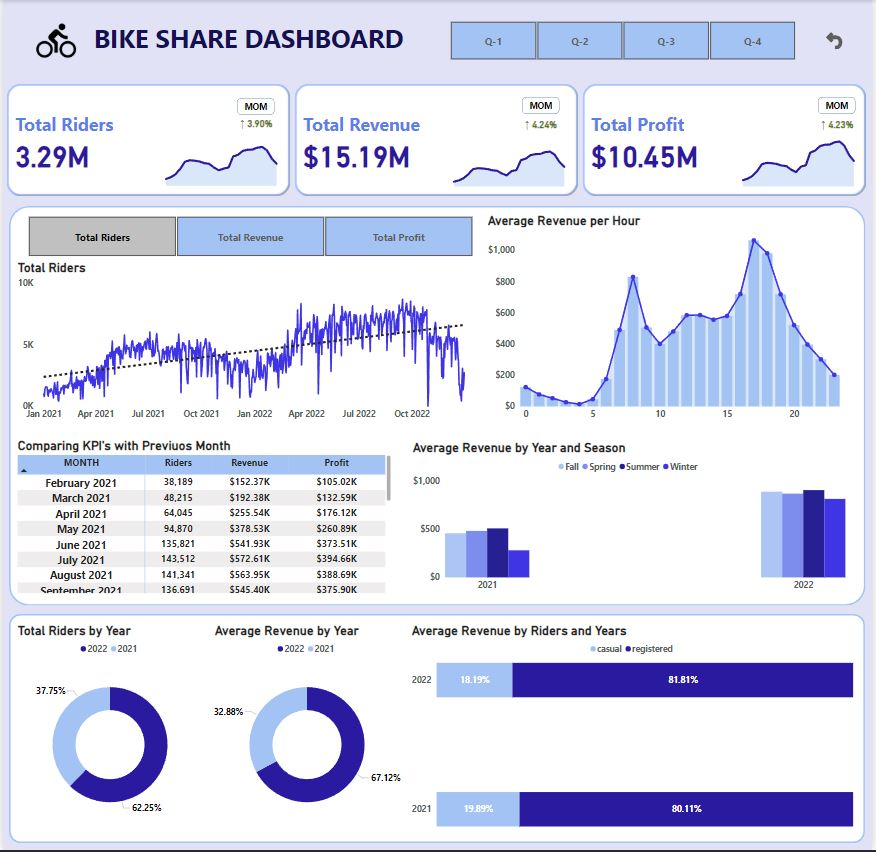

The page's visual inventory and layout, read from the dashboard file:
{"tool":"powerbi","page":{"name":"Dashboard","canvas":[1635,1600],"ordinal":0},"visuals":[{"type":"shape","box":[0,142.4,1648.2,244.7],"z":0},{"type":"cardVisual","fields":{"Data":["_Measures.Total Riders","_Measures.Total Revenue","_Measures.Total Profit"]},"box":[2,152.9,1629.4,222.4],"z":1000},{"type":"areaChart","fields":{"Category":["DimDate.Start of Month"],"Y":["_Measures.Total Riders"]},"box":[292.1,235.7,238.3,120.4],"z":2000},{"type":"areaChart","fields":{"Category":["DimDate.Start of Month"],"Y":["_Measures.Total Revenue"]},"box":[834.2,247.2,237.6,110.6],"z":3000},{"type":"areaChart","fields":{"Category":["DimDate.Start of Month"],"Y":["_Measures.Total Profit"]},"box":[1377.1,245.9,238.8,110.6],"z":4000},{"type":"shape","box":[440.6,183.5,70.6,31.8],"z":5000},{"type":"card","fields":{"Values":["_Measures.MOM Riders Display"]},"box":[421.5,214,108.9,38.4],"z":6000},{"type":"shape","box":[977.2,183,70.6,31.8],"z":7000},{"type":"card","fields":{"Values":["_Measures.MOM Revenue Display"]},"box":[958.3,216.5,107.6,37.2],"z":8000},{"type":"shape","box":[1534.8,182.4,70.6,31.8],"z":9000},{"type":"card","fields":{"Values":["_Measures.MOM Profit Display"]},"box":[1514.4,216.5,108.9,38.4],"z":10000},{"type":"shape","box":[11.3,386.8,1612.2,752.5],"z":11000},{"type":"lineChart","fields":{"Y":["_Measures.Total Riders"],"Category":["JOINED_DATA.DATE"]},"box":[22.6,489.4,884.7,310.6],"z":12000},{"type":"slicer","fields":{"Values":["KPI Parameter.KPI Parameter"]},"box":[22.6,400.9,884.7,88.5],"z":13000},{"type":"pivotTable","title":"Comparing KPI''s with Previuos Month","fields":{"Rows":["MOM_ANALYSIS.MONTH"],"Values":["Sum(MOM_ANALYSIS.PREV_MONTH_RIDERS)","Sum(MOM_ANALYSIS.PREV_MONTH_REVENUE)","Sum(MOM_ANALYSIS.PREV_MONTH_PROFIT)"]},"box":[22.6,824.5,713.4,297.4],"z":14000},{"type":"lineStackedColumnComboChart","title":"Average Revenue per Hour","fields":{"Category":["HOURLY_REVENUE.HOUR"],"Y":["Sum(HOURLY_REVENUE.AVERAGE_REVENUE)"],"Y2":["Sum(HOURLY_REVENUE.AVERAGE_REVENUE)"]},"box":[907.3,400.9,698.4,399.1],"z":15000},{"type":"clusteredColumnChart","title":"Average Revenue by Year and Season","fields":{"Category":["PEAK_REVENUE_BY_SEASON.YEAR"],"Series":["PEAK_REVENUE_BY_SEASON.SEASON"],"Y":["Sum(PEAK_REVENUE_BY_SEASON.AVERAGE_REVENUE)"]},"box":[751.1,824.5,854.6,297.4],"z":16000},{"type":"shape","box":[11.3,1155.8,1611.3,431.1],"z":17000},{"type":"donutChart","fields":{"Category":["DimDate.Year"],"Y":["_Measures.Total Riders"]},"box":[22.6,1172.7,357.6,399.1],"z":18000},{"type":"donutChart","fields":{"Category":["DimDate.Year"],"Y":["_Measures.Average Revenue"]},"box":[393.4,1172.7,357.6,399.1],"z":19000},{"type":"hundredPercentStackedBarChart","title":"Average Revenue by Riders and Years","fields":{"Category":["DimDate.Year"],"Series":["JOINED_DATA.RIDER_TYPE"],"Y":["_Measures.Average Revenue"]},"box":[764.2,1172.7,841.4,399.1],"z":20000},{"type":"textbox","box":[144.9,34,634.4,84.7],"z":21000},{"type":"image","box":[39.5,33.9,120.5,84.7],"z":22000},{"type":"slicer","fields":{"Values":["DimDate.Qtr"]},"box":[816.9,33.9,698.4,84.7],"z":23000},{"type":"actionButton","box":[1515.3,56.5,99.8,39.5],"z":24000}]}

Visuals, with their boxes in screenshot pixels (x1, y1, x2, y2), scaled from the page's 1635x1600 canvas onto the 876x852 screenshot:
shape: crop(0, 76, 875, 206)
cardVisual - _Measures.Total Riders x _Measures.Total Revenue: crop(1, 81, 874, 200)
areaChart - DimDate.Start of Month x _Measures.Total Riders: crop(157, 126, 284, 190)
areaChart - DimDate.Start of Month x _Measures.Total Revenue: crop(447, 132, 574, 191)
areaChart - DimDate.Start of Month x _Measures.Total Profit: crop(738, 131, 866, 190)
shape: crop(236, 98, 274, 115)
card - _Measures.MOM Riders Display: crop(226, 114, 284, 134)
shape: crop(524, 97, 561, 114)
card - _Measures.MOM Revenue Display: crop(513, 115, 571, 135)
shape: crop(822, 97, 860, 114)
card - _Measures.MOM Profit Display: crop(811, 115, 870, 136)
shape: crop(6, 206, 870, 607)
lineChart - _Measures.Total Riders x JOINED_DATA.DATE: crop(12, 261, 486, 426)
slicer - KPI Parameter.KPI Parameter: crop(12, 213, 486, 261)
"Comparing KPI''s with Previuos Month" pivotTable: crop(12, 439, 394, 597)
"Average Revenue per Hour" lineStackedColumnComboChart: crop(486, 213, 860, 426)
"Average Revenue by Year and Season" clusteredColumnChart: crop(402, 439, 860, 597)
shape: crop(6, 615, 869, 845)
donutChart - DimDate.Year x _Measures.Total Riders: crop(12, 624, 204, 837)
donutChart - DimDate.Year x _Measures.Average Revenue: crop(211, 624, 402, 837)
"Average Revenue by Riders and Years" hundredPercentStackedBarChart: crop(409, 624, 860, 837)
textbox: crop(78, 18, 418, 63)
image: crop(21, 18, 86, 63)
slicer - DimDate.Qtr: crop(438, 18, 812, 63)
actionButton: crop(812, 30, 865, 51)
